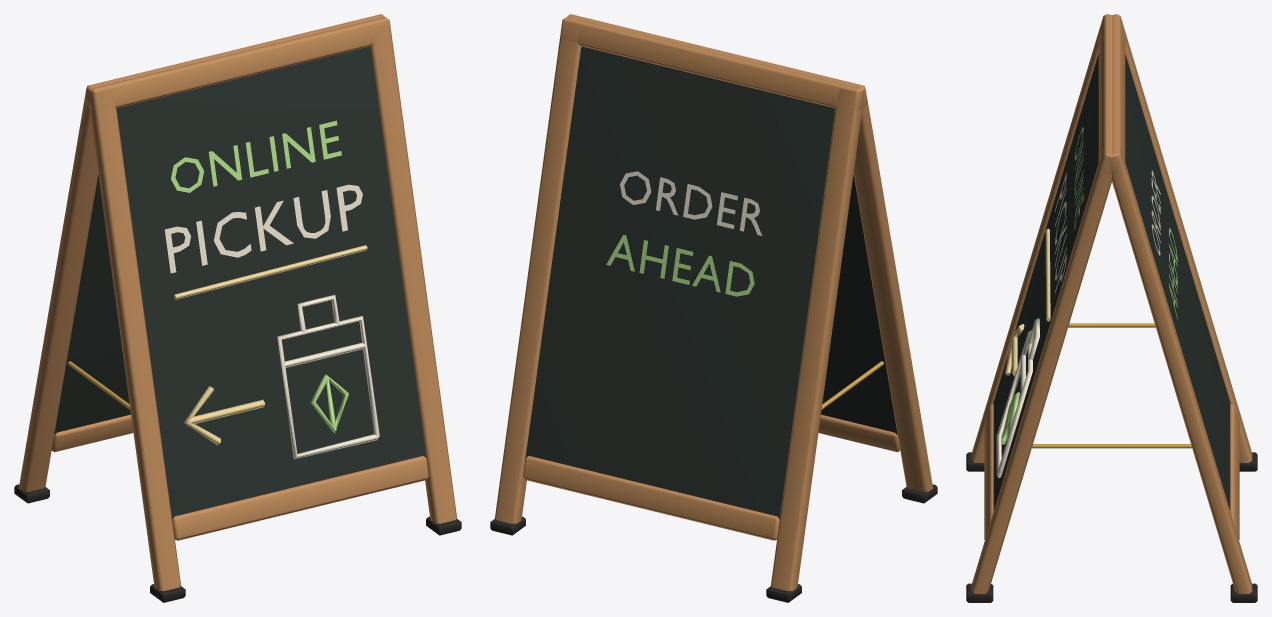
File: aframe_sign.glb
3 views of the same model, side by side, from view 1: azimuth 30°, elevation 25°; view 2: azimuth 150°, elevation 25°; view 3: azimuth 270°, elevation 25° (orthographic). The views are drawn at different scales.
Visible parts, largest first — view 1: FrontSlate, FrontStile-1, FrontStile1, BackStile-1, BackSlate, FrontTopRail, FrontBottomRail, ChalkPickup, ChalkOnline, ChalkBag, BackBottomRail, BackTopRail (+3 smaller); view 2: BackSlate, BackStile-1, BackStile1, FrontStile-1, FrontSlate, BackTopRail, BackBottomRail, ChalkOrder, ChalkAhead, FrontBottomRail, FrontTopRail; view 3: BackSlate, FrontSlate, BackStile1, FrontStile1, BackStile-1, FrontStile-1, BackTopRail, FrontTopRail, ChalkBag, BackBottomRail, FrontBottomRail, Chain1 (+5 smaller).
Boxes of the visible parts, left/top/right/bottom form: FrontSlate: left=116, top=46, right=426, bottom=519; FrontStile-1: left=89, top=87, right=181, bottom=591; FrontStile1: left=370, top=21, right=456, bottom=523; BackStile-1: left=19, top=89, right=98, bottom=491; BackSlate: left=54, top=175, right=130, bottom=434; FrontTopRail: left=89, top=17, right=391, bottom=110; FrontBottomRail: left=172, top=456, right=428, bottom=540; ChalkPickup: left=165, top=184, right=362, bottom=273; ChalkOnline: left=171, top=120, right=341, bottom=192; ChalkBag: left=277, top=315, right=379, bottom=459; BackBottomRail: left=51, top=414, right=133, bottom=452; BackTopRail: left=84, top=14, right=384, bottom=108; BackSlate: left=525, top=46, right=835, bottom=519; BackStile-1: left=770, top=87, right=864, bottom=591; BackStile1: left=495, top=22, right=581, bottom=523; FrontStile-1: left=853, top=85, right=932, bottom=491; FrontSlate: left=821, top=175, right=897, bottom=434; BackTopRail: left=560, top=17, right=864, bottom=110; BackBottomRail: left=523, top=456, right=779, bottom=540; ChalkOrder: left=620, top=171, right=762, bottom=235; ChalkAhead: left=606, top=234, right=754, bottom=296; FrontBottomRail: left=818, top=414, right=900, bottom=452; FrontTopRail: left=567, top=14, right=867, bottom=108; BackSlate: left=1125, top=54, right=1230, bottom=510; FrontSlate: left=993, top=54, right=1098, bottom=510; BackStile1: left=1108, top=148, right=1252, bottom=593; FrontStile1: left=971, top=148, right=1111, bottom=593; BackStile-1: left=1120, top=17, right=1252, bottom=471; FrontStile-1: left=971, top=17, right=1103, bottom=471; BackTopRail: left=1108, top=14, right=1125, bottom=174; FrontTopRail: left=1098, top=14, right=1114, bottom=174; ChalkBag: left=996, top=330, right=1032, bottom=477; BackBottomRail: left=1230, top=404, right=1239, bottom=539; FrontBottomRail: left=984, top=404, right=993, bottom=539; Chain1: left=1032, top=444, right=1191, bottom=448.
Bounding box in the file's own units: 0.625 × 0.9213 × 0.54.
